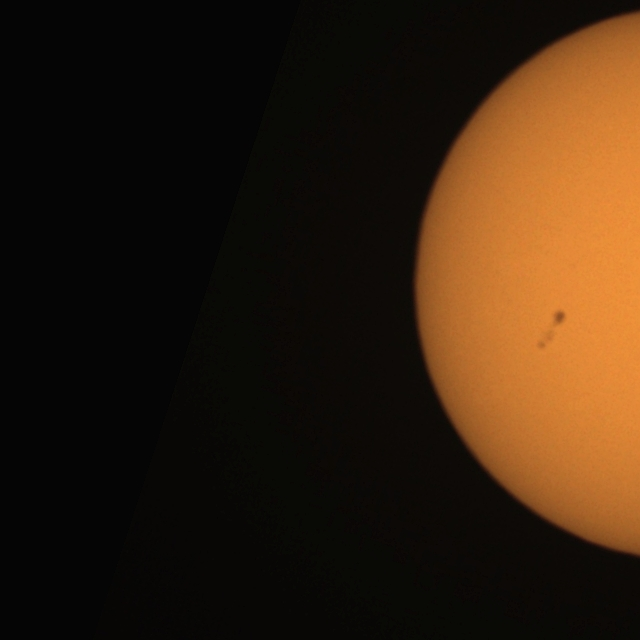sunspot: (536, 310, 568, 351), (550, 308, 568, 328)
